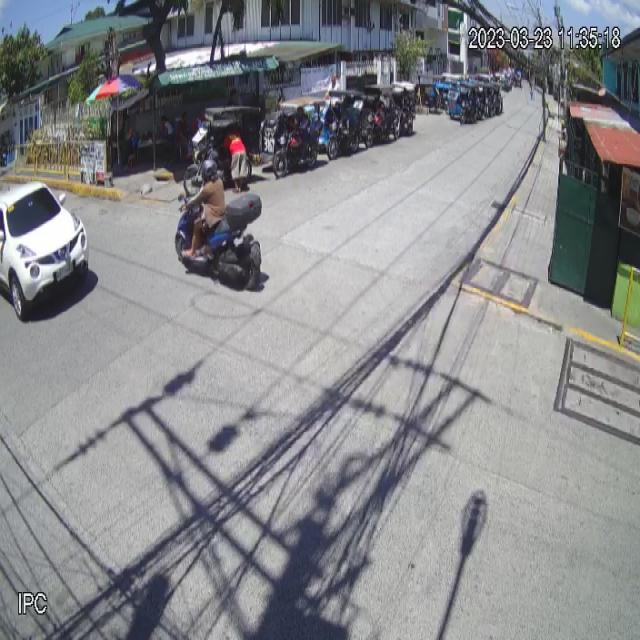Car: (1, 180, 89, 320)
Motorcycle: (175, 188, 266, 292)
